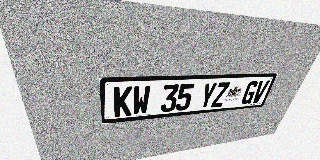3: (160, 84, 180, 113)
5: (175, 83, 195, 111)
G: (240, 81, 260, 105)
K: (114, 86, 132, 117)
V: (250, 80, 270, 104)
W: (132, 85, 151, 115)
Y: (198, 82, 218, 109)
Z: (211, 82, 230, 108)
